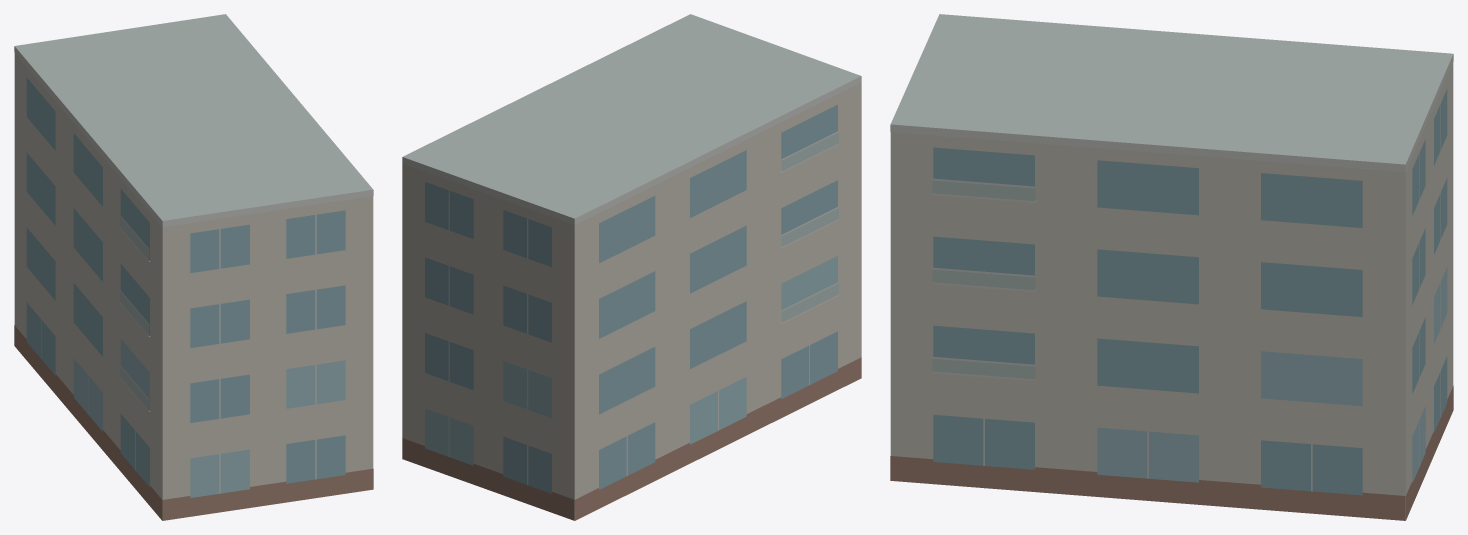
File: survey-upis-32934007.glb
The picture shows the model from 3 angles, left to right: view 1: azimuth 30°, elevation 25°; view 2: azimuth 150°, elevation 25°; view 3: azimuth 270°, elevation 25°; orthographic projection. The views are drawn at different scales.
Visible parts, largest first — view 1: survey-upis-32934007.tmp; view 2: survey-upis-32934007.tmp; view 3: survey-upis-32934007.tmp.
Part boxes in pixels (x1,y1,x2,y2): survey-upis-32934007.tmp: (14,14,373,520); survey-upis-32934007.tmp: (402,14,861,520); survey-upis-32934007.tmp: (890,14,1453,520).
Bounding box in the file's own units: 10.43 × 11.5 × 16.48.
